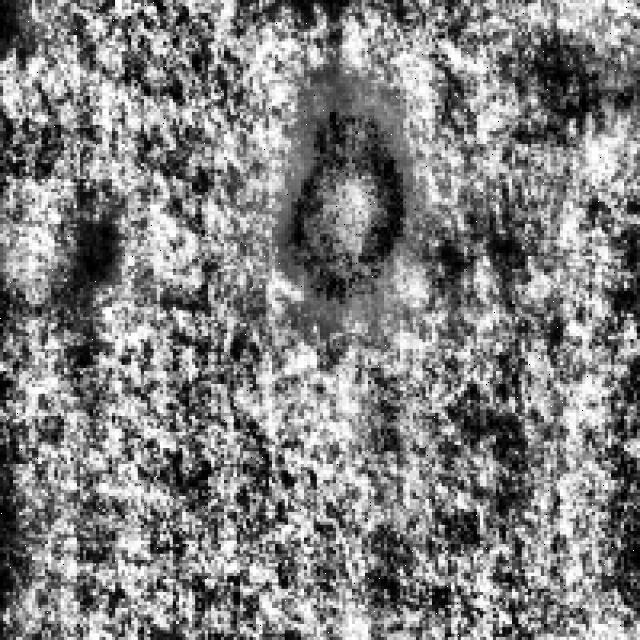Scratches: (291, 83, 410, 298)
